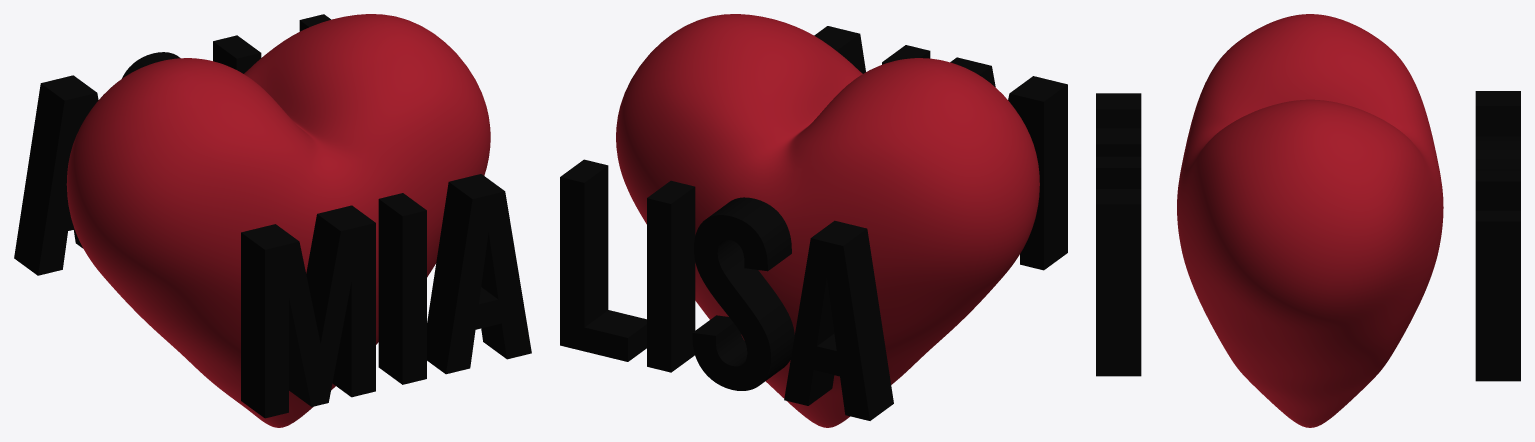
Rendered from glitr_heart.gltf.
3 renders of one model, left to right at view 1: azimuth 30°, elevation 25°; view 2: azimuth 150°, elevation 25°; view 3: azimuth 270°, elevation 25°, orthographic. The views are drawn at different scales.
Visible parts, largest first — view 1: Cube, Text, Text.001; view 2: Cube, Text.001, Text; view 3: Cube, Text.001, Text.
Part boxes in pixels (bbox=[...]): Cube: bbox=[66, 14, 490, 427]; Text: bbox=[241, 174, 531, 418]; Text.001: bbox=[14, 14, 330, 275]; Cube: bbox=[616, 14, 1039, 427]; Text.001: bbox=[560, 159, 893, 420]; Text: bbox=[814, 26, 1067, 270]; Cube: bbox=[1177, 14, 1443, 427]; Text.001: bbox=[1475, 91, 1520, 381]; Text: bbox=[1096, 93, 1141, 376].
Size of the model in its own units: 4.14 by 3.83 by 4.1.
